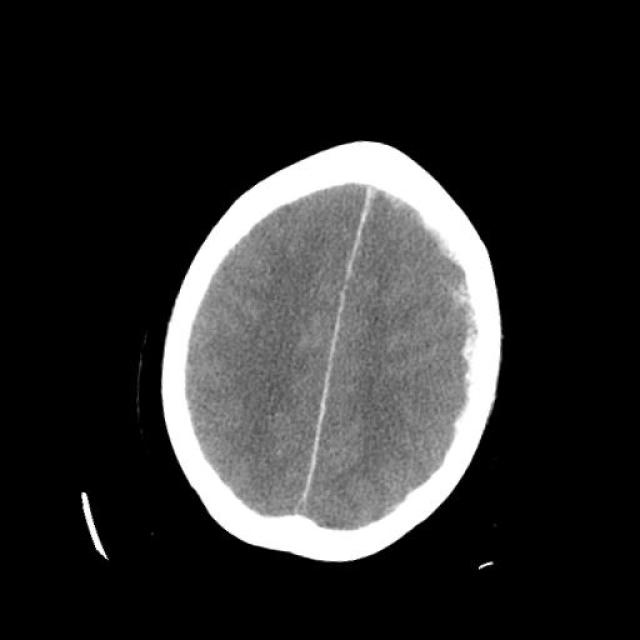Subdural: (368, 186, 508, 420)
